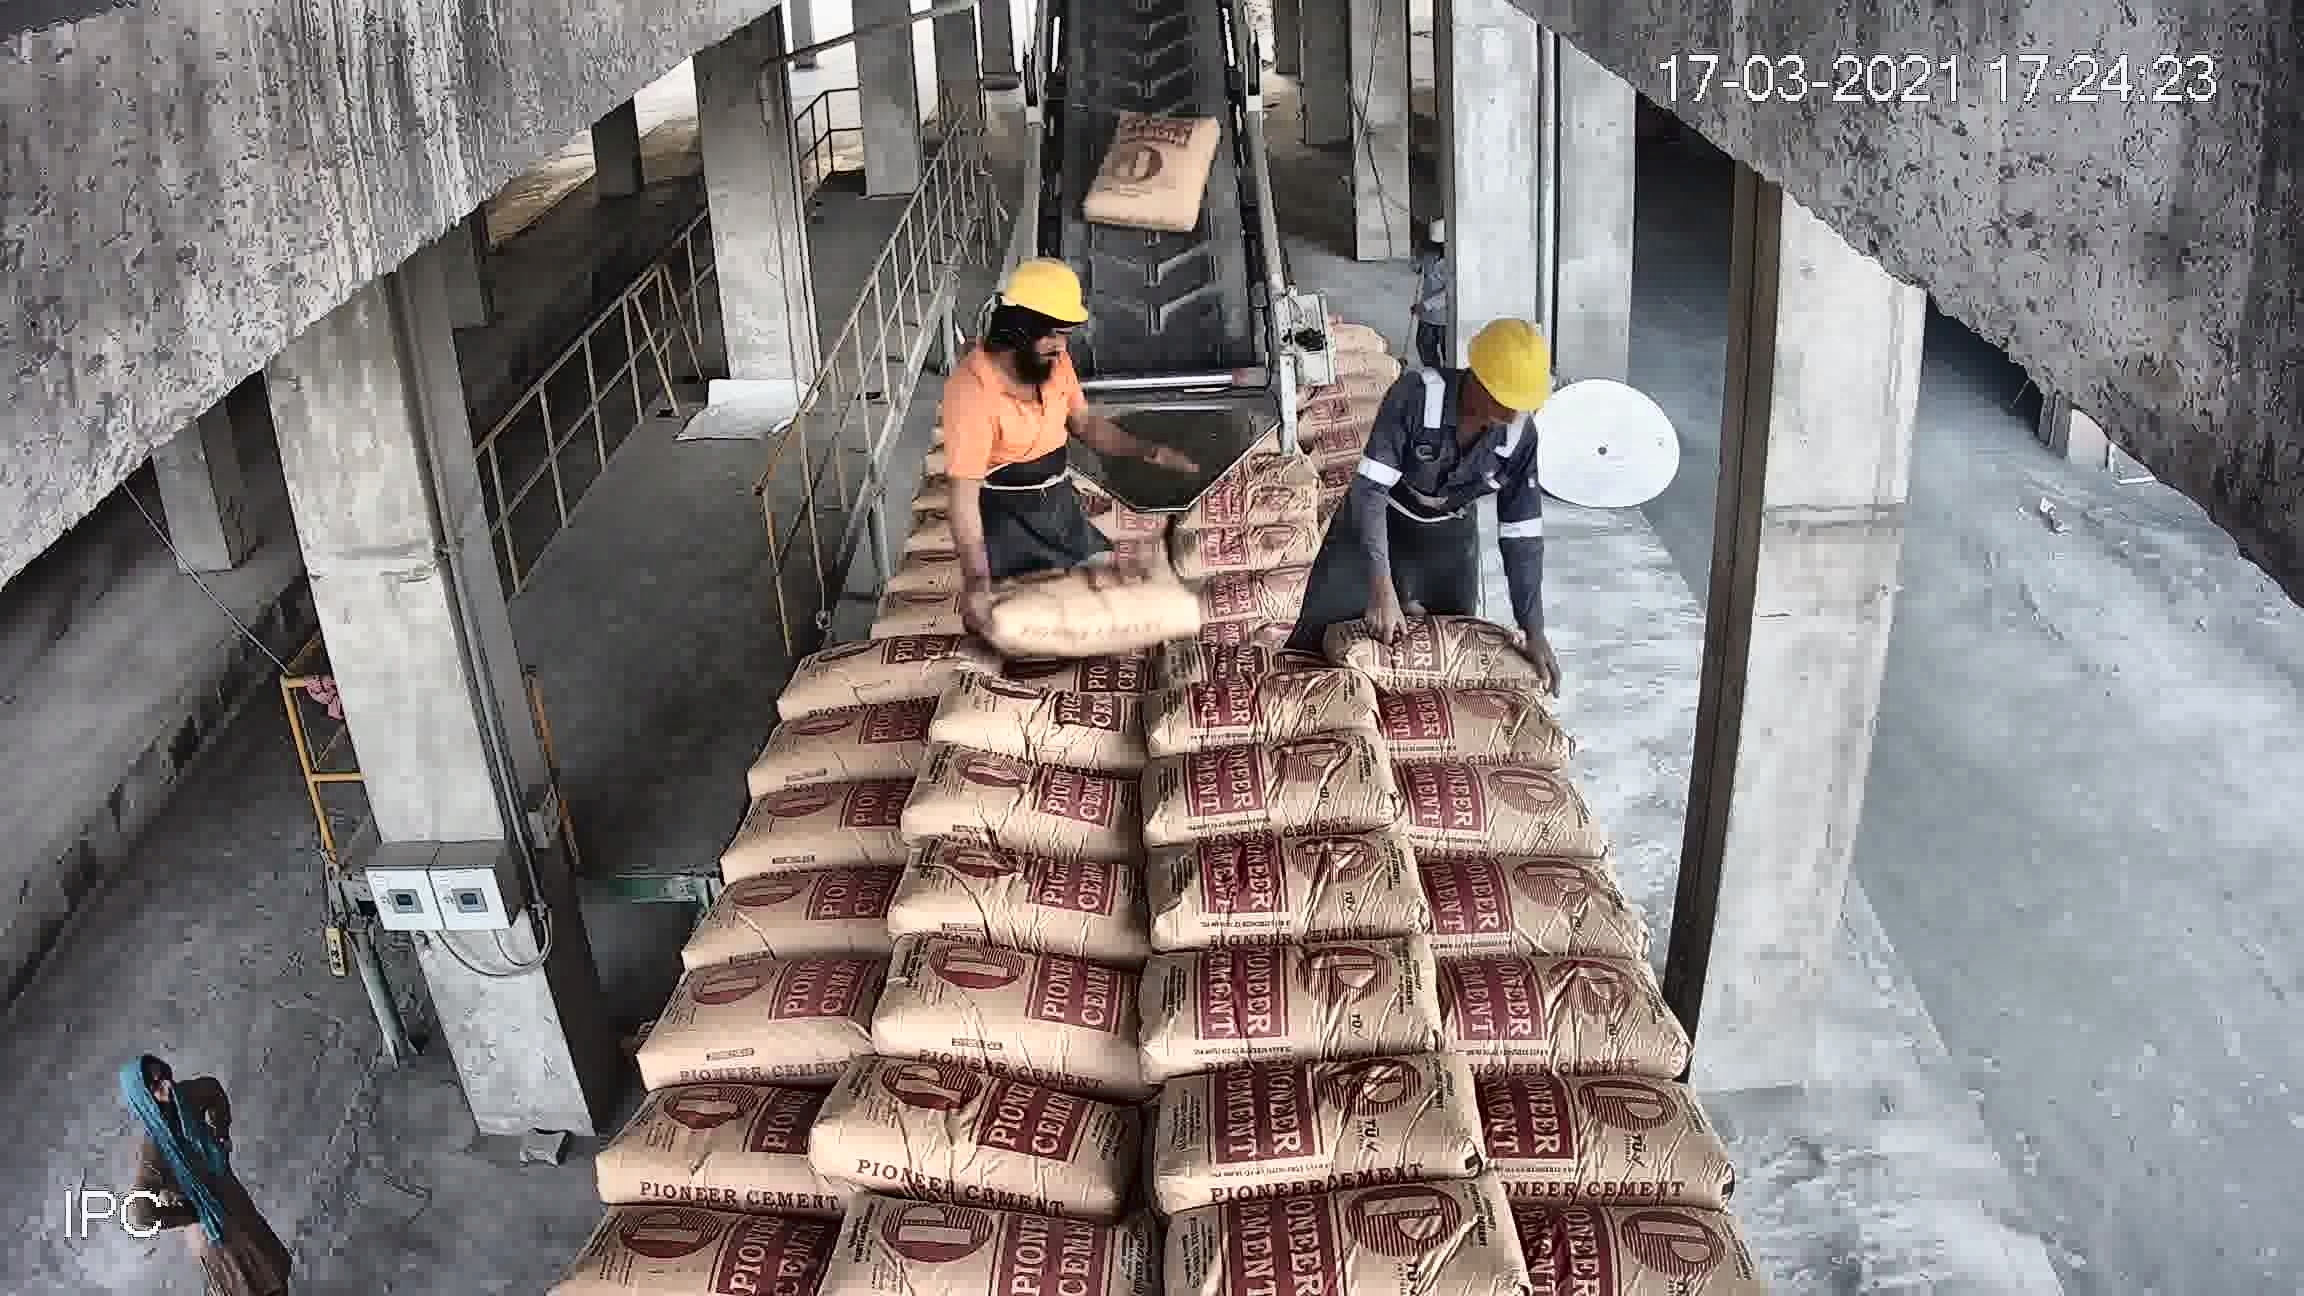bag: (946, 347, 1087, 430), (1100, 81, 1207, 185)
bag_h: (1152, 1041, 1500, 1218), (798, 1036, 1124, 1215), (850, 943, 1158, 1097), (1161, 915, 1456, 1073), (1136, 1174, 1519, 1291), (593, 1054, 840, 1233), (1435, 1070, 1742, 1201), (793, 1187, 1154, 1296), (638, 938, 897, 1086), (1155, 824, 1426, 959), (873, 829, 1147, 956), (1445, 1169, 1764, 1274), (1435, 934, 1669, 1074), (1377, 828, 1630, 957), (1150, 574, 1385, 699), (1179, 715, 1399, 839), (1348, 671, 1590, 782), (1157, 647, 1389, 758), (548, 1198, 809, 1296), (919, 668, 1166, 769), (714, 771, 916, 888), (695, 855, 894, 970), (883, 742, 1130, 834), (1389, 753, 1608, 855), (1138, 473, 1340, 567), (755, 703, 953, 790), (1367, 616, 1563, 695), (1147, 430, 1313, 517), (1161, 538, 1362, 608), (964, 612, 1150, 684), (771, 636, 951, 707), (1359, 560, 1529, 633), (1011, 449, 1161, 530), (1283, 373, 1419, 460), (967, 560, 1149, 620), (1298, 407, 1431, 489), (1347, 514, 1510, 578), (1328, 459, 1483, 522), (987, 508, 1154, 567), (809, 540, 980, 592), (810, 589, 956, 644), (837, 481, 961, 540), (1309, 342, 1407, 386), (1293, 372, 1400, 410)
belt: (1051, 17, 1260, 285)
